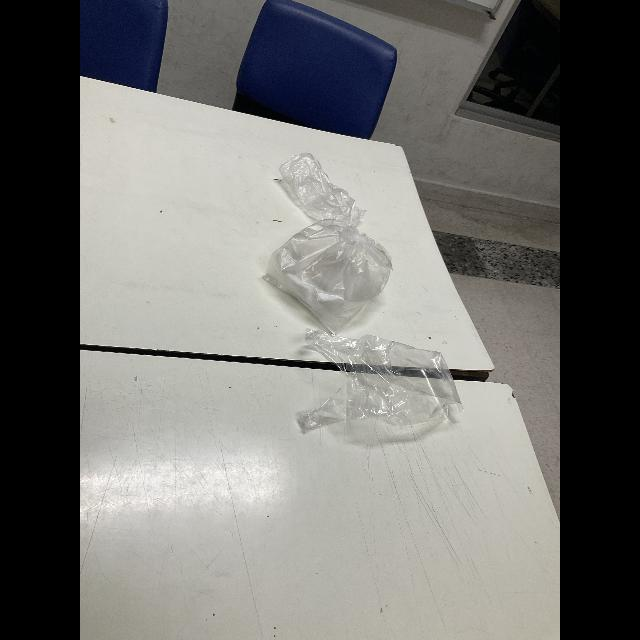plastic_bag: (277, 321, 473, 441), (238, 221, 400, 325)
scrap_plastic: (270, 154, 362, 222)
